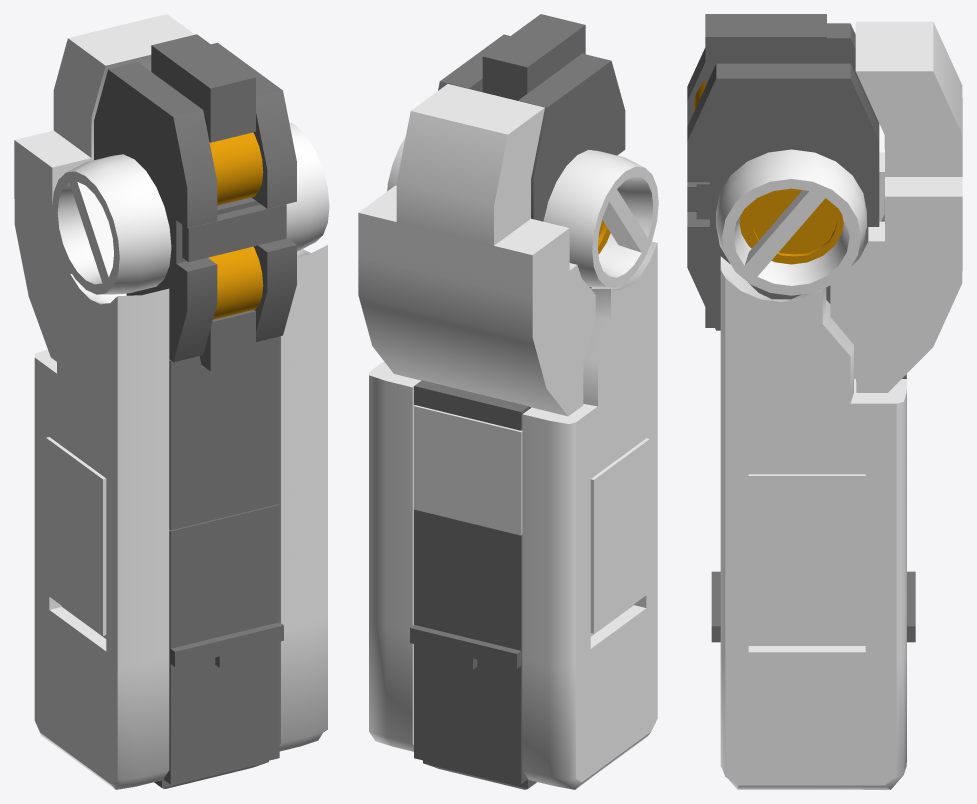
The model's file is drighthand.obj.
3 views of the same model, side by side, from view 1: azimuth 30°, elevation 25°; view 2: azimuth 150°, elevation 25°; view 3: azimuth 270°, elevation 25° (orthographic). The views are drawn at different scales.
Parts seen in each view (by area): view 1: drighthand; view 2: drighthand; view 3: drighthand.
Part boxes in pixels (left/top/right/bottom): drighthand: left=14, top=14, right=329, bottom=789; drighthand: left=358, top=14, right=658, bottom=789; drighthand: left=687, top=14, right=962, bottom=789.
Bounding box in the file's own units: 1.86 × 5.82 × 1.98.
